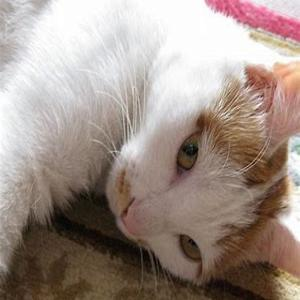cat: (109, 76, 289, 285)
